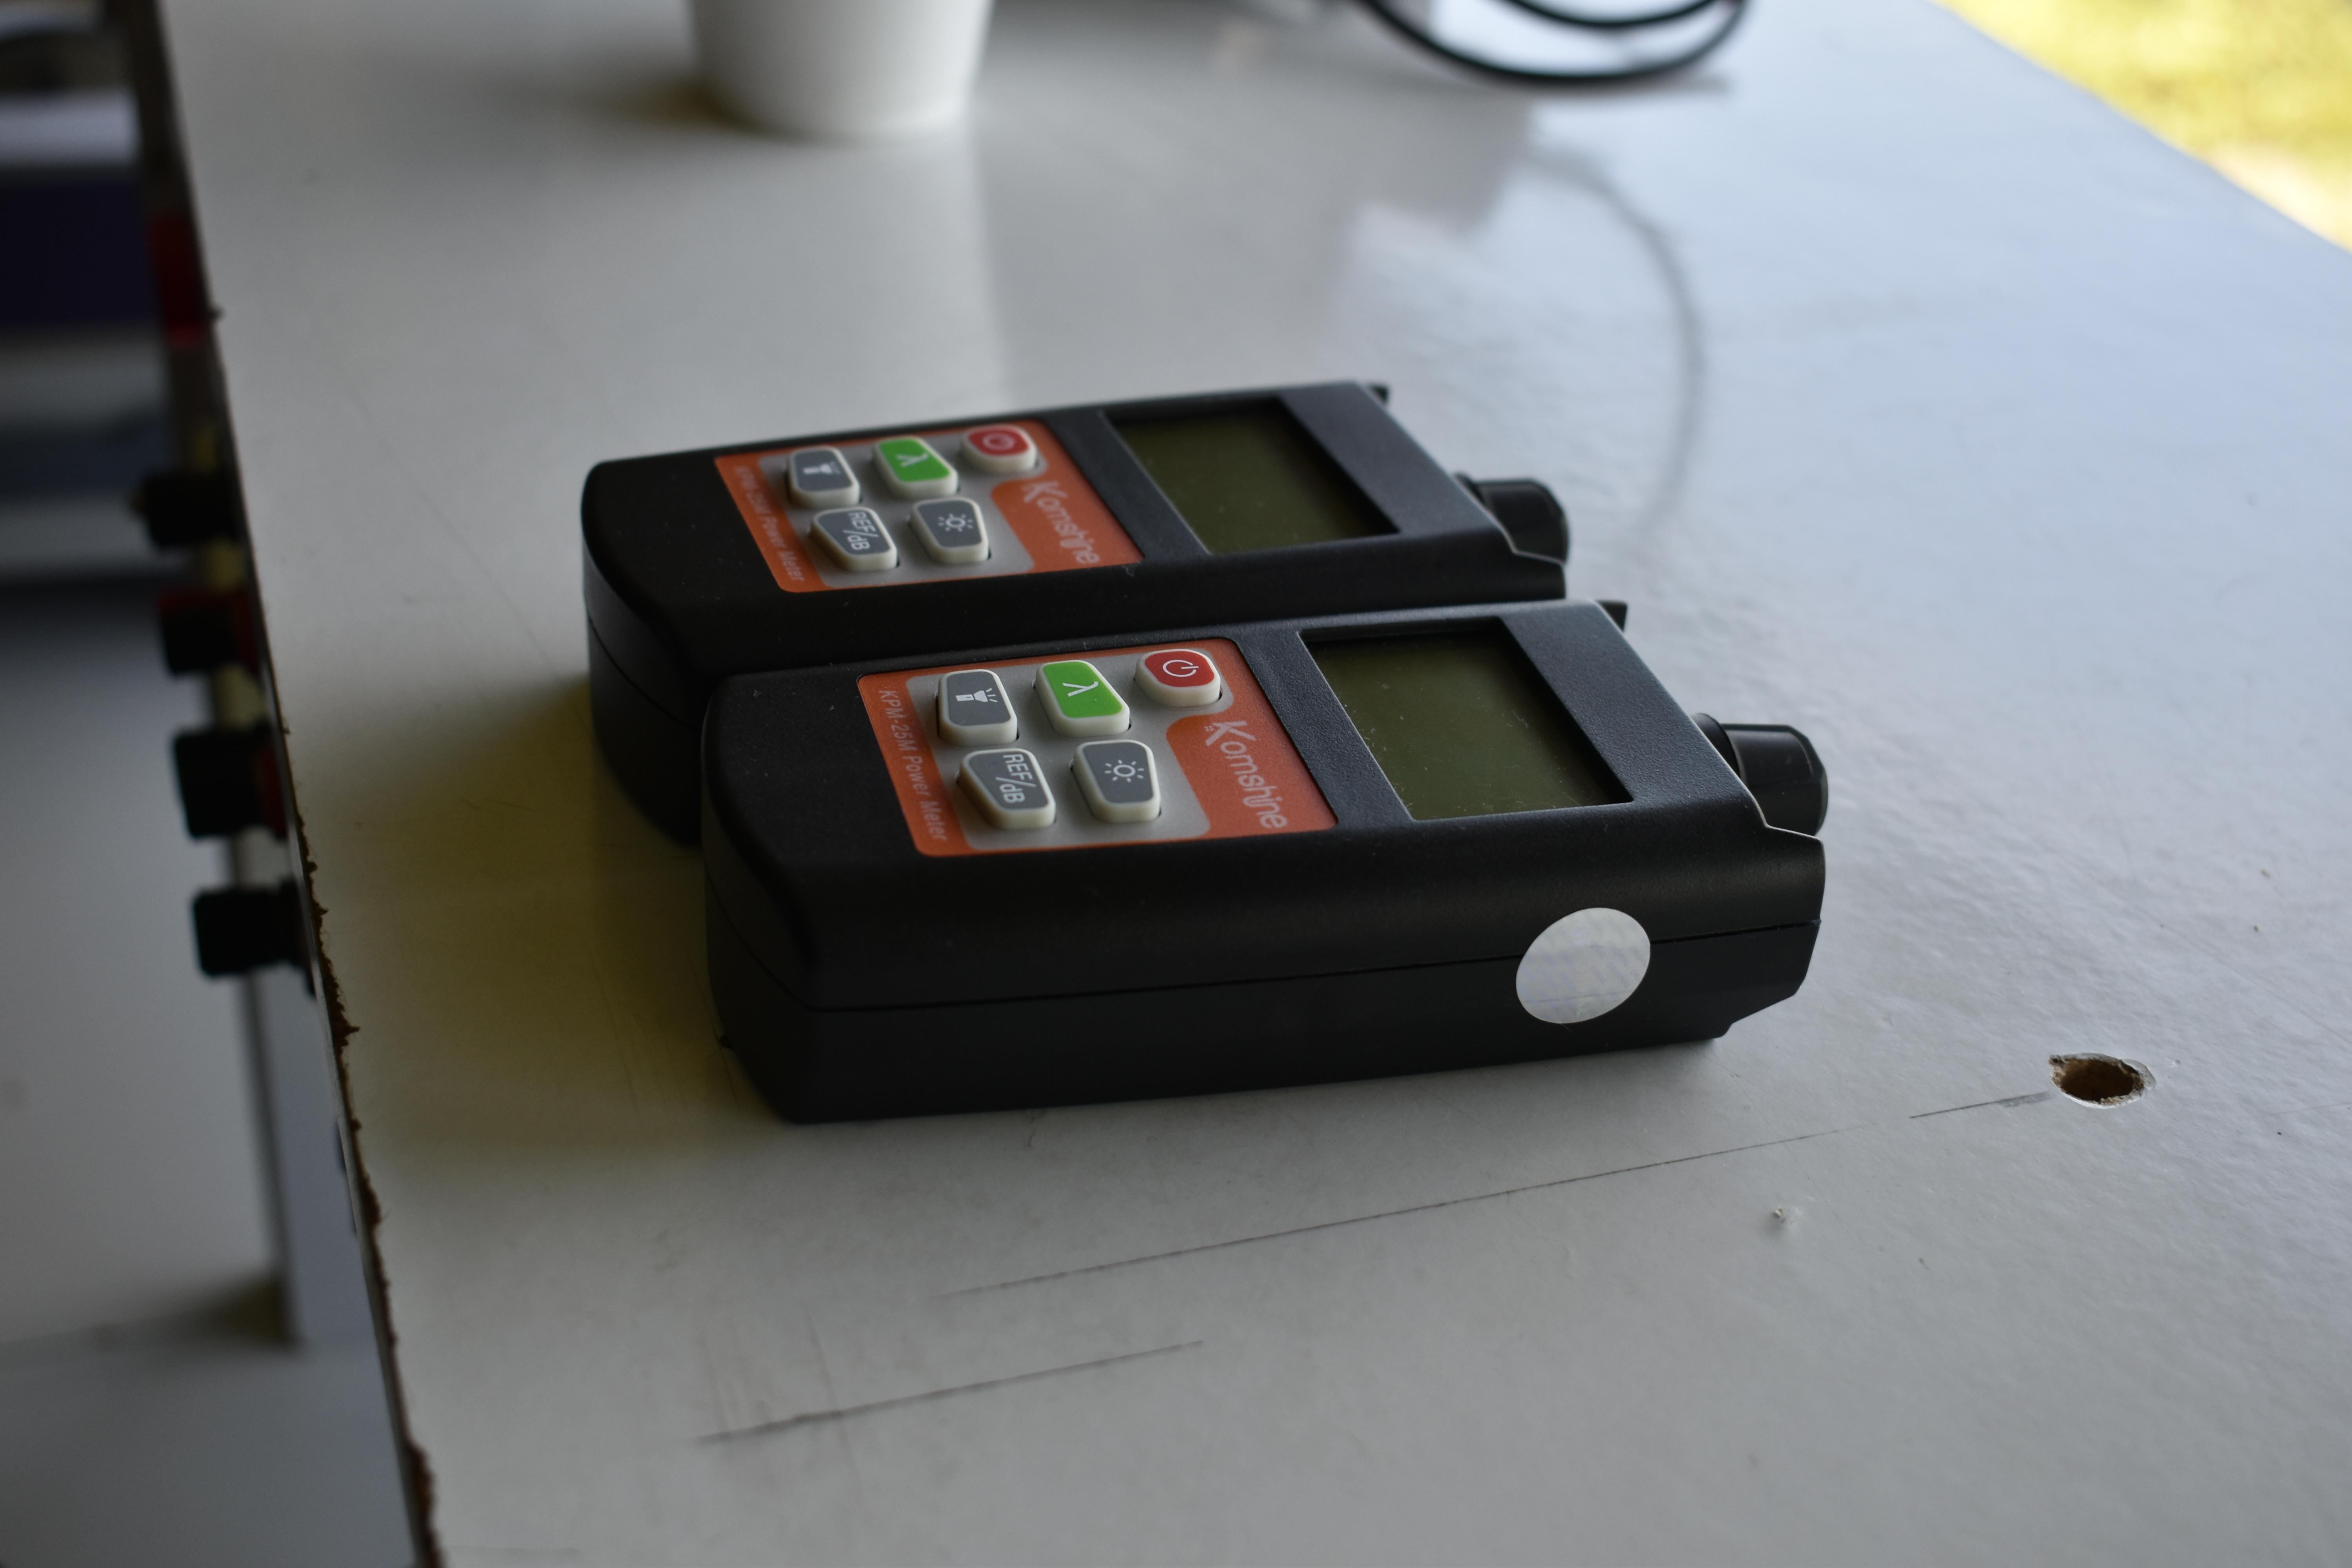powermeter: (577, 376, 1832, 1129)
